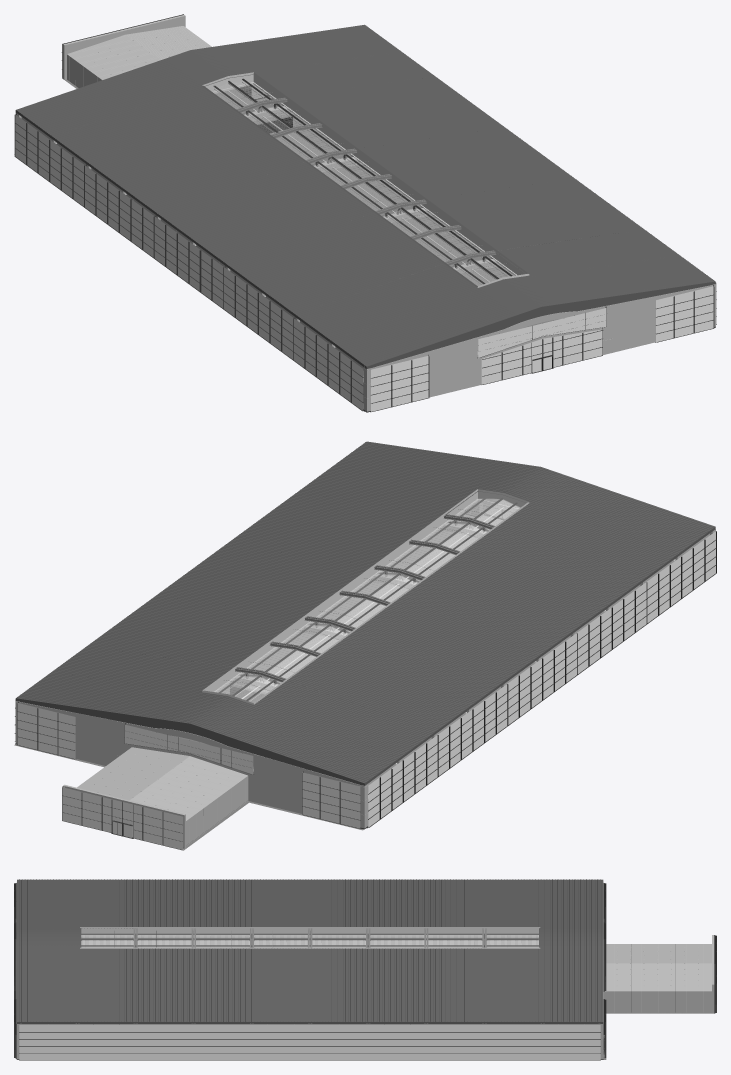
The model's file is exhitibition.glb.
The picture shows the model from 3 angles, top to bottom: view 1: azimuth 30°, elevation 25°; view 2: azimuth 150°, elevation 25°; view 3: azimuth 270°, elevation 25°; orthographic projection. The views are drawn at different scales.
Parts seen in each view (by area): view 1: Roof_001, Roof_005, Roof_003, Roof_004, Roof_002, Wall_002, Corridor, Window_Glass.007, Floor, Window_Framing, Window_Glass.010, Window_Glass.004 (+19 smaller); view 2: Roof_005, Roof_001, Roof_003, Roof_002, Roof_004, Corridor, Wall_001, Window_Glass.007, Floor, Window_Framing, Window_Glass.016, Window_Glass.005 (+19 smaller); view 3: Roof_005, Roof_001, Roof_003, Roof_002, Roof_004, Window_Glass.003, Corridor, Window_Framing, Window_Glass, Window_Glass.001, Window_Glass.002, Floor (+15 smaller).
Boxes of the visible parts, <box> form: Roof_001: <box>295,229,715,368</box>; Roof_005: <box>15,24,435,164</box>; Roof_003: <box>156,127,574,265</box>; Roof_004: <box>87,76,504,214</box>; Roof_002: <box>226,178,643,316</box>; Wall_002: <box>363,285,709,402</box>; Corridor: <box>63,15,248,93</box>; Window_Glass.007: <box>15,114,154,257</box>; Floor: <box>14,79,559,408</box>; Window_Framing: <box>202,72,529,287</box>; Window_Glass.010: <box>481,329,602,384</box>; Window_Glass.004: <box>293,318,363,410</box>; Roof_005: <box>15,646,435,785</box>; Roof_001: <box>296,441,715,580</box>; Roof_003: <box>157,544,574,682</box>; Roof_002: <box>226,493,644,631</box>; Roof_004: <box>87,595,505,733</box>; Corridor: <box>63,747,248,849</box>; Wall_001: <box>21,702,368,819</box>; Window_Glass.007: <box>368,684,507,827</box>; Floor: <box>14,514,502,849</box>; Window_Framing: <box>202,489,529,704</box>; Window_Glass.016: <box>62,787,183,849</box>; Window_Glass.005: <box>577,582,646,673</box>; Roof_005: <box>484,879,603,1023</box>; Roof_001: <box>17,879,135,1023</box>; Roof_003: <box>252,879,368,1023</box>; Roof_002: <box>135,879,251,1023</box>; Roof_004: <box>368,879,484,1023</box>; Window_Glass.003: <box>368,1025,600,1060</box>; Corridor: <box>603,935,714,1013</box>; Window_Framing: <box>80,927,540,948</box>; Window_Glass: <box>19,1025,135,1060</box>; Window_Glass.001: <box>135,1025,251,1060</box>; Window_Glass.002: <box>252,1025,368,1060</box>; Floor: <box>81,936,711,1059</box>.
Bounding box in the file's own units: 73.54 × 12.83 × 151.
Materials: 14 (1 with a texture image).
